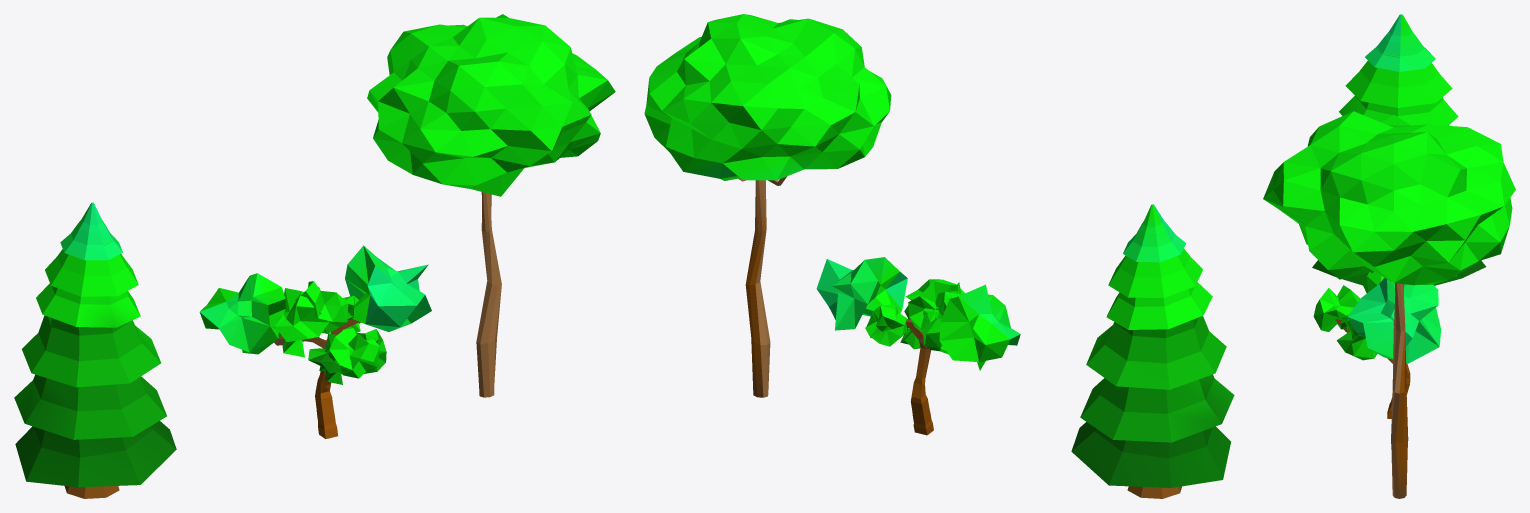
File: TA_sm_trees_var03.fbx
3 views of the same model, side by side, from view 1: azimuth 30°, elevation 25°; view 2: azimuth 150°, elevation 25°; view 3: azimuth 270°, elevation 25° (orthographic).
Visible parts, largest first — view 1: Arbol Alto, Arbol Conito, Arbol Frondoso; view 2: Arbol Alto, Arbol Conito, Arbol Frondoso; view 3: Arbol Alto, Arbol Conito, Arbol Frondoso.
Part boxes in pixels (x1=…): Arbol Alto: x1=367, y1=14, x2=615, y2=397; Arbol Conito: x1=14, y1=202, x2=176, y2=498; Arbol Frondoso: x1=199, y1=245, x2=431, y2=438; Arbol Alto: x1=644, y1=14, x2=891, y2=397; Arbol Conito: x1=1071, y1=204, x2=1234, y2=498; Arbol Frondoso: x1=816, y1=257, x2=1020, y2=435; Arbol Alto: x1=1263, y1=111, x2=1515, y2=498; Arbol Conito: x1=1312, y1=14, x2=1486, y2=285; Arbol Frondoso: x1=1313, y1=271, x2=1456, y2=418.
Size of the model in its own units: 32.73 by 20.12 by 12.58.
3 materials, 3 textured.
